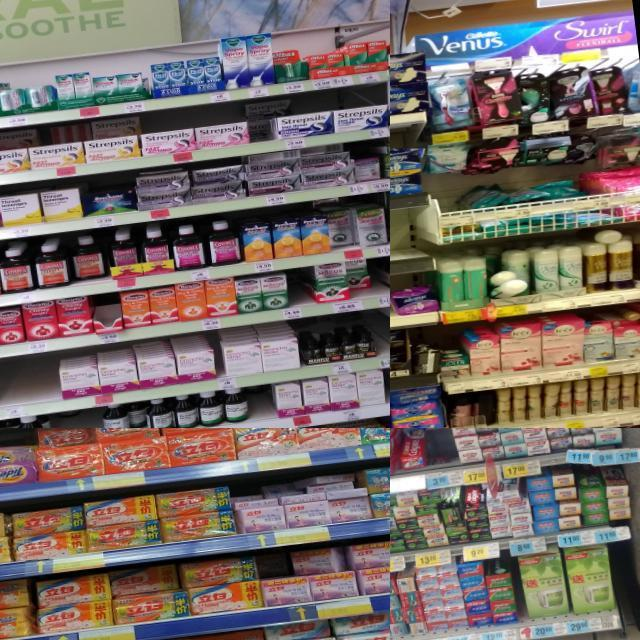Imprecise: (106, 557, 184, 622), (270, 474, 370, 524), (289, 539, 356, 596), (244, 100, 326, 135), (487, 248, 528, 312), (86, 115, 142, 158), (0, 128, 39, 172), (323, 203, 359, 248), (346, 257, 369, 299)
